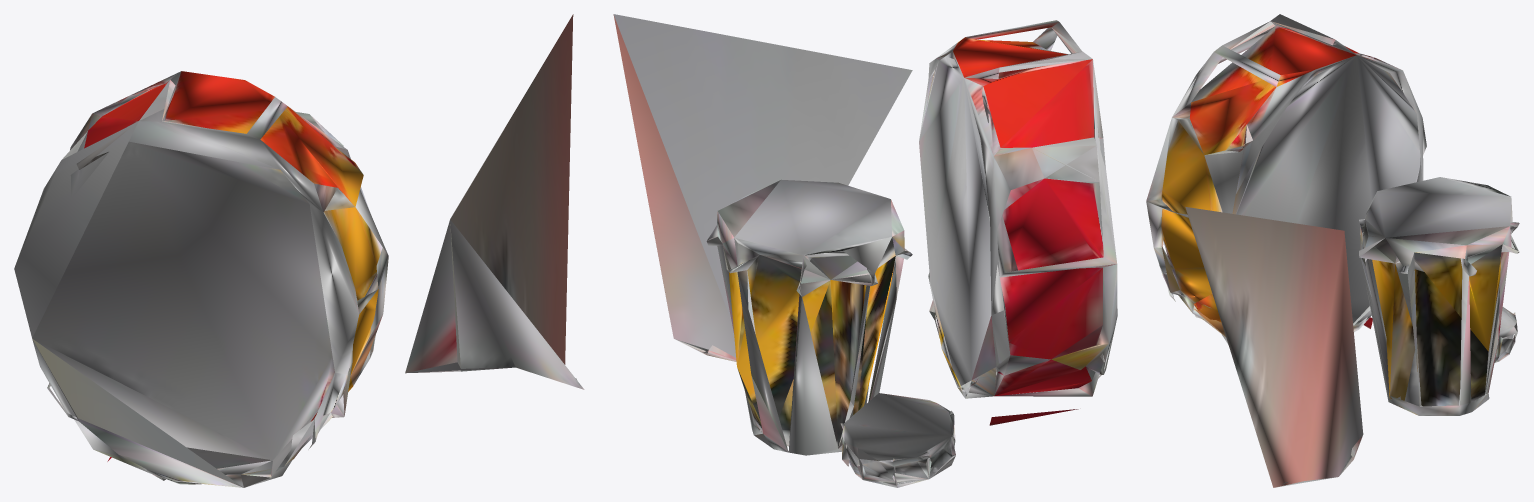
File: fv_drums.lod1.glb
3 renders of one model, left to right at view 1: azimuth 30°, elevation 25°; view 2: azimuth 150°, elevation 25°; view 3: azimuth 270°, elevation 25°, orthographic. The views are drawn at different scales.
Parts seen in each view (by area): view 1: fv_drums; view 2: fv_drums; view 3: fv_drums.
Boxes of the visible parts, <box> form: fv_drums: <box>14,14,584,487</box>; fv_drums: <box>613,14,1117,487</box>; fv_drums: <box>1146,14,1519,487</box>.
Bounding box in the file's own units: 1.36 × 0.8888 × 0.9924.
1 material, 1 textured.
